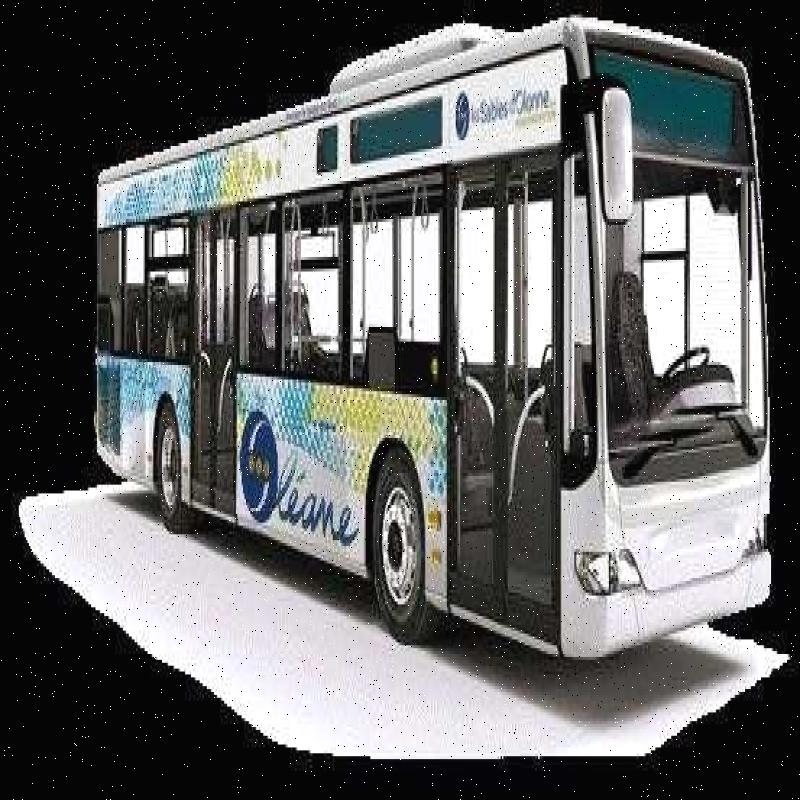bus: (94, 35, 798, 663)
